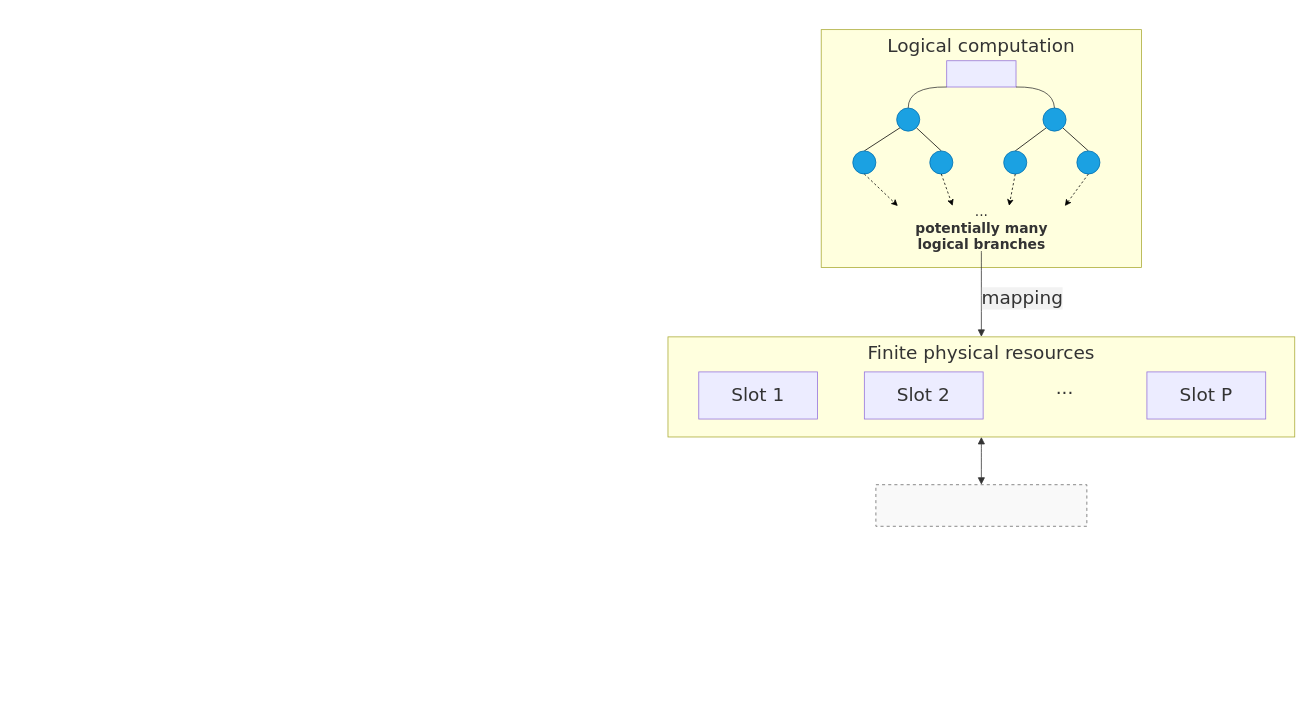
Image size: 1315x704. Some labels were removed from this diagram. Each missing label, with the centre of its shape:
"Pending branch states" goes at pixel 981 505.
"root" goes at pixel 981 73.
